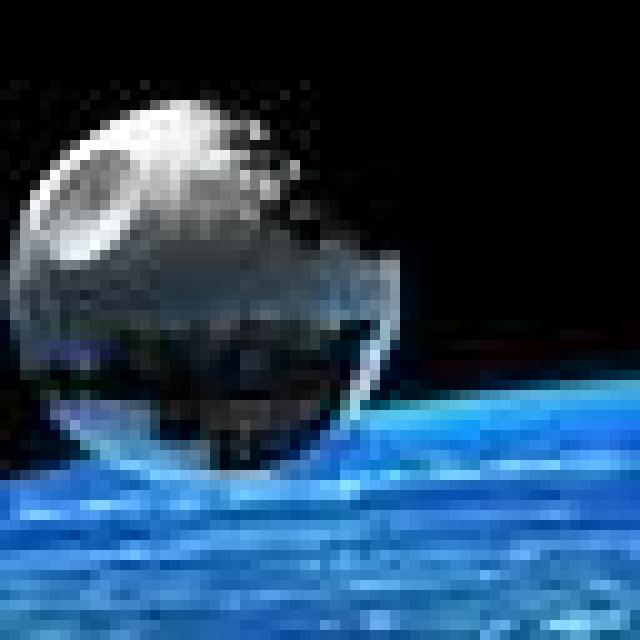Death Star: (0, 80, 410, 480)
